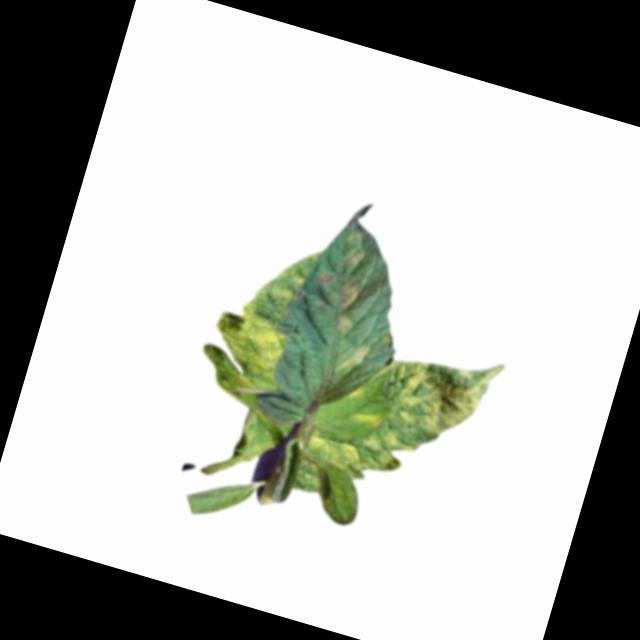Leaf_Mold: (371, 333, 506, 476), (193, 289, 301, 402), (299, 427, 399, 484), (333, 334, 376, 382), (334, 282, 363, 315), (346, 406, 383, 430), (334, 312, 356, 335)
